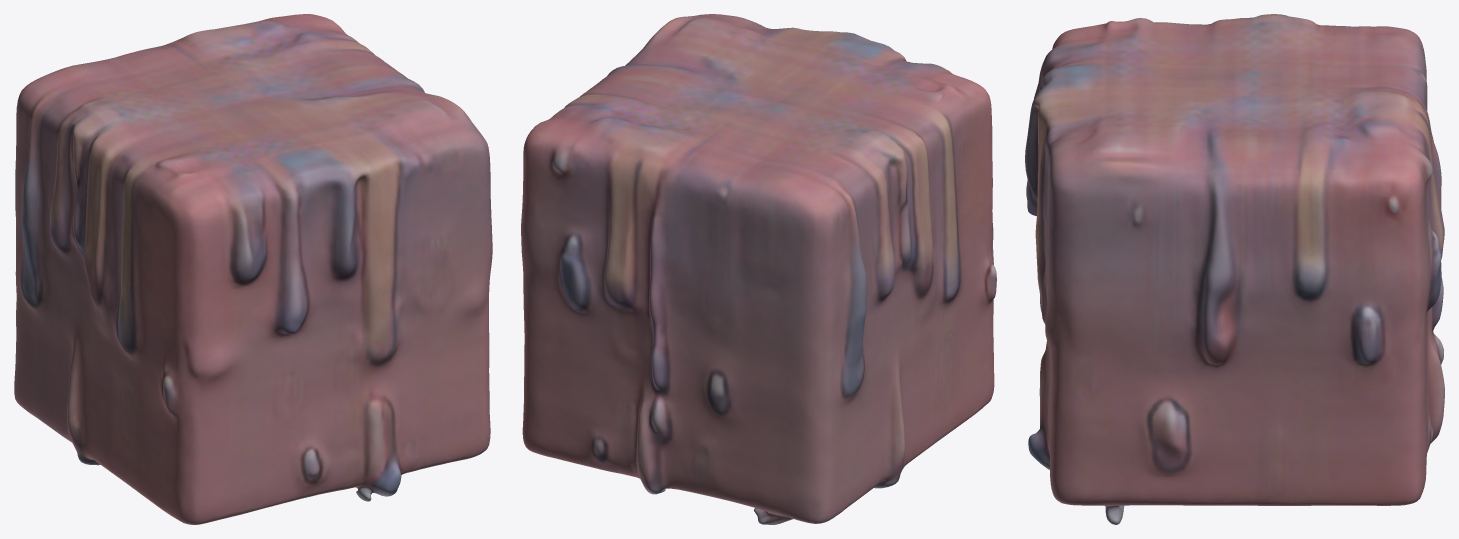
Rendered from 9fcee8b59668_cubes_crossing_and_.fbx.
3 views of the same model, side by side, from view 1: azimuth 30°, elevation 25°; view 2: azimuth 150°, elevation 25°; view 3: azimuth 270°, elevation 25° (orthographic). The views are drawn at different scales.
Parts seen in each view (by area): view 1: high_poly; view 2: high_poly; view 3: high_poly.
Boxes of the visible parts, x1,y1,x2,y2 form: high_poly: [14, 14, 492, 524]; high_poly: [521, 14, 996, 524]; high_poly: [1025, 14, 1444, 524].
Bounding box in the file's own units: 100 × 97.79 × 99.84.
